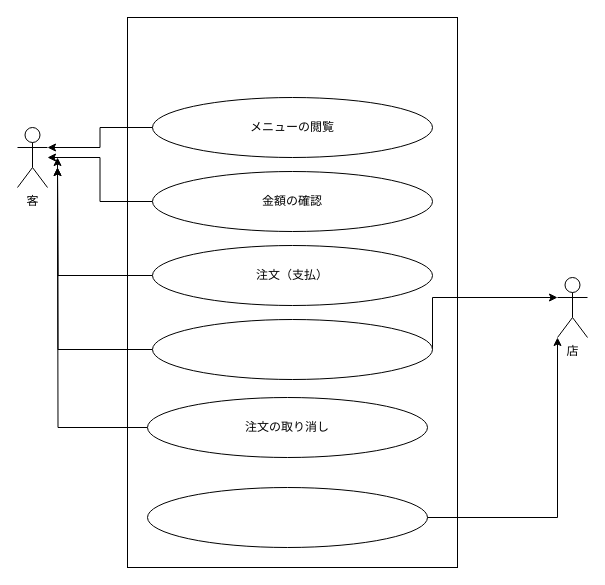
The diagram is 605 pixels wide and 585 high, and some of its shapes have lost their labels. Each missing label, with the box of its shape:
モバイルオーダーアプリ: (126, 16, 458, 568)
注文内容の確認: (152, 318, 432, 380)
注文受け渡し完了の記録: (146, 486, 428, 548)
